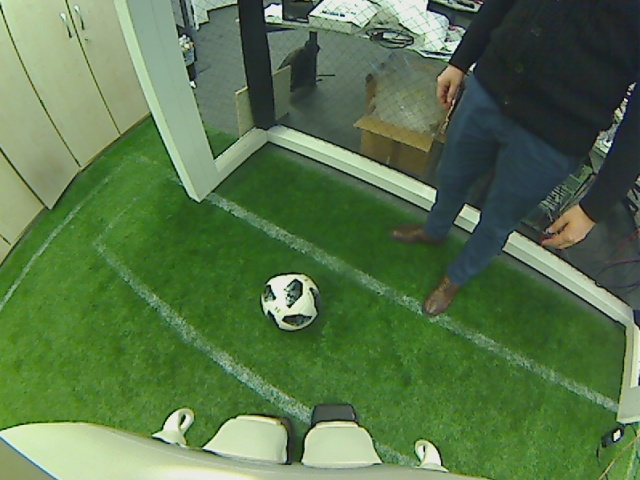ball: (259, 272, 321, 332)
